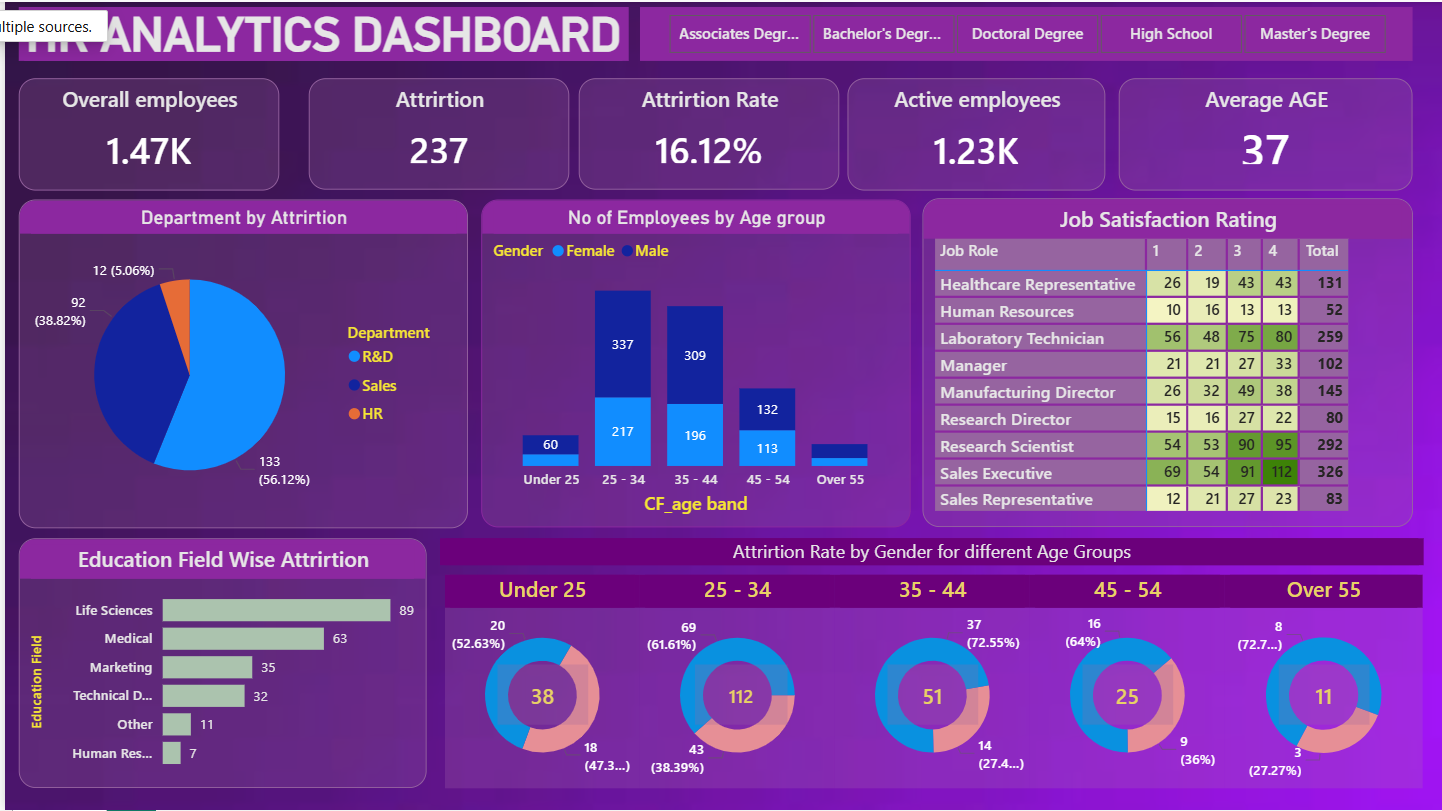

What the dashboard file says about the page in this screenshot:
{"tool":"powerbi","page":{"name":"Page 1","canvas":[1280,720],"ordinal":0},"visuals":[{"type":"cardVisual","title":"Overall employees","fields":{"Data":["Sum(HR data.Employee Count)"]},"box":[12,68.4,232.1,100],"z":0},{"type":"cardVisual","title":"Attrirtion","fields":{"Data":["Sum(HR data.Attrirtion count)"]},"box":[270.3,68.4,232.1,98.8],"z":1000},{"type":"cardVisual","title":"Attrirtion Rate","fields":{"Data":["HR data.Attrition Rate"]},"box":[510.8,68.4,232.1,98.8],"z":2000},{"type":"cardVisual","title":"Active employees","fields":{"Data":["HR data.Active employees"]},"box":[750.1,68.4,229.8,100],"z":3000},{"type":"cardVisual","title":"Average AGE","fields":{"Data":["Avg(HR data.Age)"]},"box":[991.7,68.4,261.9,100],"z":4000},{"type":"pieChart","title":"Department by Attrirtion","fields":{"Category":["HR data.Department"],"Y":["Sum(HR data.Attrirtion count)"]},"box":[12,175.3,400,292.9],"z":5000},{"type":"columnChart","title":"No of Employees by Age group","fields":{"Category":["HR data.CF_age band"],"Y":["Sum(HR data.Employee Count)"],"Series":["HR data.Gender"]},"box":[423.6,175.6,382.2,292.2],"z":6000},{"type":"pivotTable","title":"Job Satisfaction Rating","fields":{"Rows":["HR data.Job Role"],"Columns":["HR data.Job Satisfaction"],"Values":["Sum(HR data.Employee Count)"]},"box":[816.9,175.1,436.9,292.9],"z":7000},{"type":"barChart","title":"Education Field Wise  Attrirtion","fields":{"Y":["Sum(HR data.Attrirtion count)"],"Category":["HR data.Education Field"]},"box":[12,477.9,363.1,222.6],"z":8000},{"type":"donutChart","title":"Under 25","fields":{"Category":["HR data.Gender"],"Y":["Sum(HR data.Attrirtion count)"],"Series":["HR data.CF_age band"]},"box":[391.7,510.1,173.8,190.5],"z":9000},{"type":"textbox","title":"Attrirtion Rate  by Gender for different Age Groups","box":[387,477.9,876.2,23.8],"z":10000},{"type":"donutChart","title":"25 - 34","fields":{"Category":["HR data.Gender"],"Y":["Sum(HR data.Attrirtion count)"],"Series":["HR data.CF_age band"]},"box":[565.5,510.1,173.8,190.5],"z":11000},{"type":"donutChart","title":"35 - 44","fields":{"Category":["HR data.Gender"],"Y":["Sum(HR data.Attrirtion count)"],"Series":["HR data.CF_age band"]},"box":[739.3,510.1,173.8,190.5],"z":12000},{"type":"donutChart","title":"45 - 54","fields":{"Category":["HR data.Gender"],"Y":["Sum(HR data.Attrirtion count)"],"Series":["HR data.CF_age band"]},"box":[913.1,510.1,173.8,190.5],"z":13000},{"type":"donutChart","title":"Over 55","fields":{"Category":["HR data.Gender"],"Y":["Sum(HR data.Attrirtion count)"],"Series":["HR data.CF_age band"]},"box":[1087,510.1,176.2,190.5],"z":14000},{"type":"cardVisual","title":"Overall employees","fields":{"Data":["Sum(HR data.Attrirtion count)"]},"box":[438.1,589.8,81,53.6],"z":15000},{"type":"cardVisual","title":"Overall employees","fields":{"Data":["Sum(HR data.Attrirtion count)"]},"box":[614.3,589.8,82.1,53.6],"z":16000},{"type":"cardVisual","title":"Overall employees","fields":{"Data":["Sum(HR data.Attrirtion count)"]},"box":[785.8,589.8,81,53.6],"z":17000},{"type":"cardVisual","title":"Overall employees","fields":{"Data":["Sum(HR data.Attrirtion count)"]},"box":[959.6,589.8,81,53.6],"z":18000},{"type":"cardVisual","title":"Overall employees","fields":{"Data":["Sum(HR data.Attrirtion count)"]},"box":[1134.6,589.8,81,53.6],"z":19000},{"type":"textbox","title":"HR ANALYTICS DASHBOARD","box":[12,4.1,542.9,47.6],"z":20000},{"type":"slicer","fields":{"Values":["HR data.Education"]},"box":[565.5,4.1,688.1,47.6],"z":21000}]}

Visuals, with their boxes in screenshot pixels (x1, y1, x2, y2), scaled from the page's 1280x720 canvas onto the 1442x811 screenshot:
"Overall employees" cardVisual: region(14, 77, 275, 190)
"Attrirtion" cardVisual: region(305, 77, 566, 188)
"Attrirtion Rate" cardVisual: region(575, 77, 837, 188)
"Active employees" cardVisual: region(845, 77, 1104, 190)
"Average AGE" cardVisual: region(1117, 77, 1412, 190)
"Department by Attrirtion" pieChart: region(14, 197, 464, 527)
"No of Employees by Age group" columnChart: region(477, 198, 908, 527)
"Job Satisfaction Rating" pivotTable: region(920, 197, 1412, 527)
"Education Field Wise  Attrirtion" barChart: region(14, 538, 423, 789)
"Under 25" donutChart: region(441, 575, 637, 789)
"Attrirtion Rate  by Gender for different Age Groups" textbox: region(436, 538, 1423, 565)
"25 - 34" donutChart: region(637, 575, 833, 789)
"35 - 44" donutChart: region(833, 575, 1029, 789)
"45 - 54" donutChart: region(1029, 575, 1224, 789)
"Over 55" donutChart: region(1225, 575, 1423, 789)
"Overall employees" cardVisual: region(494, 664, 585, 725)
"Overall employees" cardVisual: region(692, 664, 785, 725)
"Overall employees" cardVisual: region(885, 664, 977, 725)
"Overall employees" cardVisual: region(1081, 664, 1172, 725)
"Overall employees" cardVisual: region(1278, 664, 1369, 725)
"HR ANALYTICS DASHBOARD" textbox: region(14, 5, 625, 58)
slicer - HR data.Education: region(637, 5, 1412, 58)
